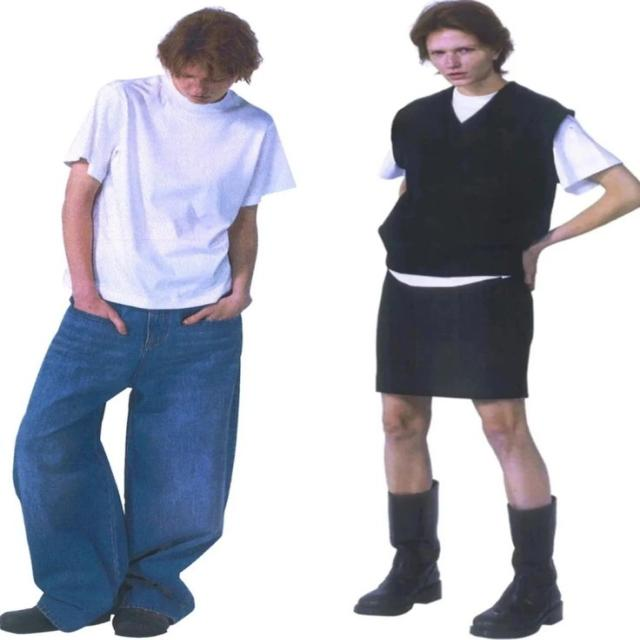9_cabeza_baja: (158, 8, 264, 102)
